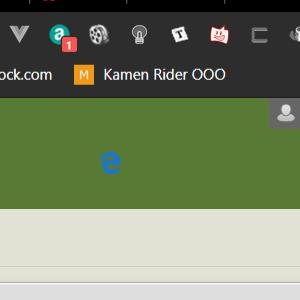edge: (100, 152, 120, 175)
